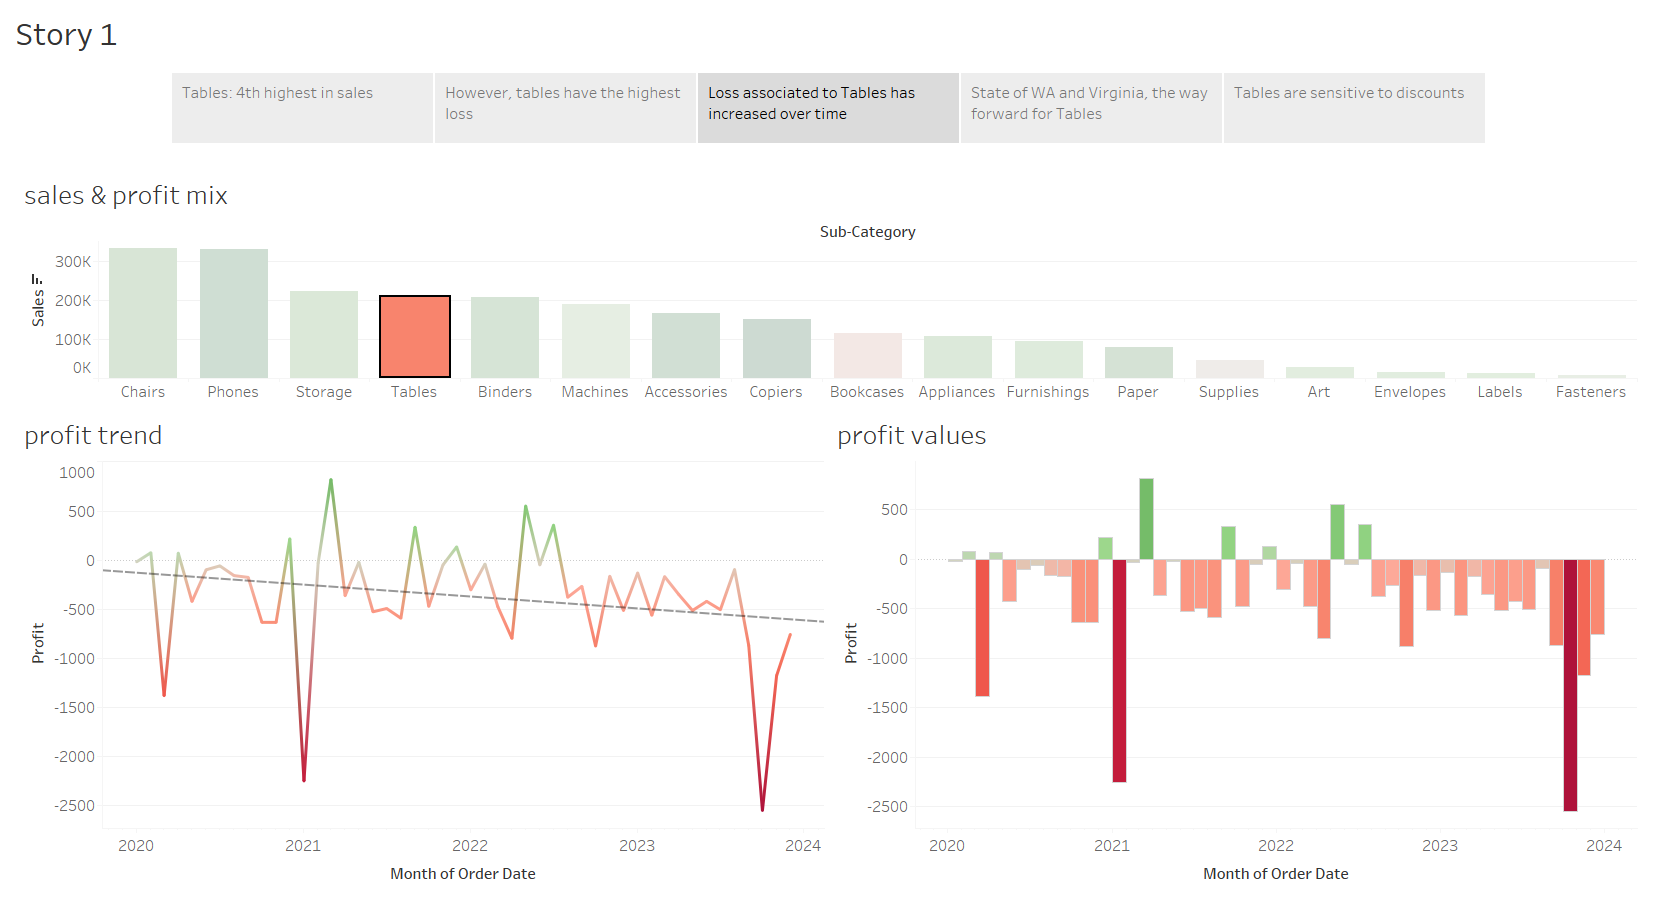

This screenshot's page, from the dashboard's own definition file:
{"tool":"tableau","page":{"name":"profits over time","canvas":[1000,1000],"units":"permille","ordinal":2},"visuals":[{"type":"worksheet","title":"sales & profit mix","mark":"Automatic","rows":["Sales"],"cols":["Sub-Category"],"box":[4.8,8.8,990.3,323.8]},{"type":"worksheet","title":"profit trend","mark":"Automatic","rows":["Profit"],"cols":["Order Date"],"box":[4.8,332.6,495.2,658.6]},{"type":"worksheet","title":"profit values","mark":"Bar","rows":["Profit"],"cols":["Order Date"],"box":[500,332.6,495.2,658.6]}]}

Visuals, with their boxes on the dashboard's canvas, which has no fixed pixel size, in thousandths of its width and height (x1, y1, x2, y2). These are canvas units, not pixel positions in the 1657x911 screenshot, which may show the page scaled, cropped or inside an application window:
"sales & profit mix" worksheet: (5, 9, 995, 333)
"profit trend" worksheet: (5, 333, 500, 991)
"profit values" worksheet (Bar marks): (500, 333, 995, 991)
